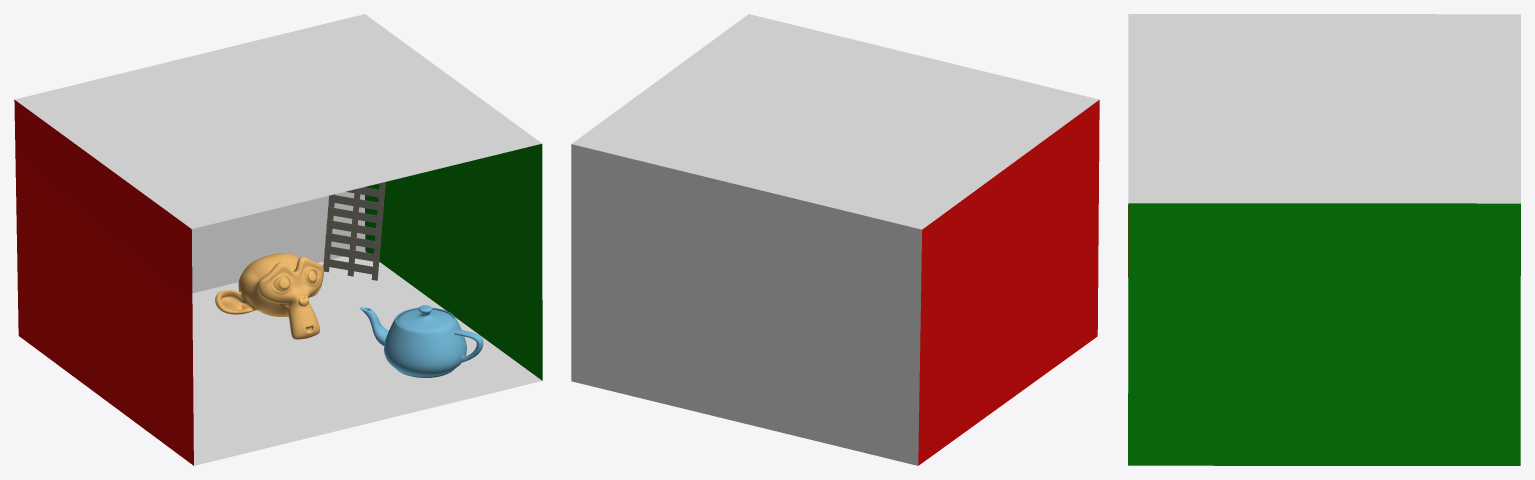
Rendered from TestScene.glb.
3 renders of one model, left to right at view 1: azimuth 30°, elevation 25°; view 2: azimuth 150°, elevation 25°; view 3: azimuth 270°, elevation 25°, orthographic. The views are drawn at different scales.
Visible parts, largest first — view 1: ceiling, left_wall, Floor, right_wall, back_wall, Suzanne, Teapot, Ladder; view 2: back_wall, ceiling, left_wall; view 3: right_wall, ceiling.
Boxes of the visible parts, x1,y1,x2,y2 form: ceiling: (15, 14, 541, 228); left_wall: (14, 99, 193, 465); Floor: (192, 251, 541, 465); right_wall: (365, 144, 542, 380); back_wall: (191, 187, 365, 293); Suzanne: (215, 253, 323, 339); Teapot: (359, 305, 483, 377); Ladder: (323, 182, 385, 280); back_wall: (571, 144, 921, 465); ceiling: (572, 14, 1099, 229); left_wall: (918, 100, 1099, 465); right_wall: (1128, 203, 1520, 465); ceiling: (1128, 14, 1520, 203).
Size of the model in its own units: 8.49 by 5.5 by 7.44.
